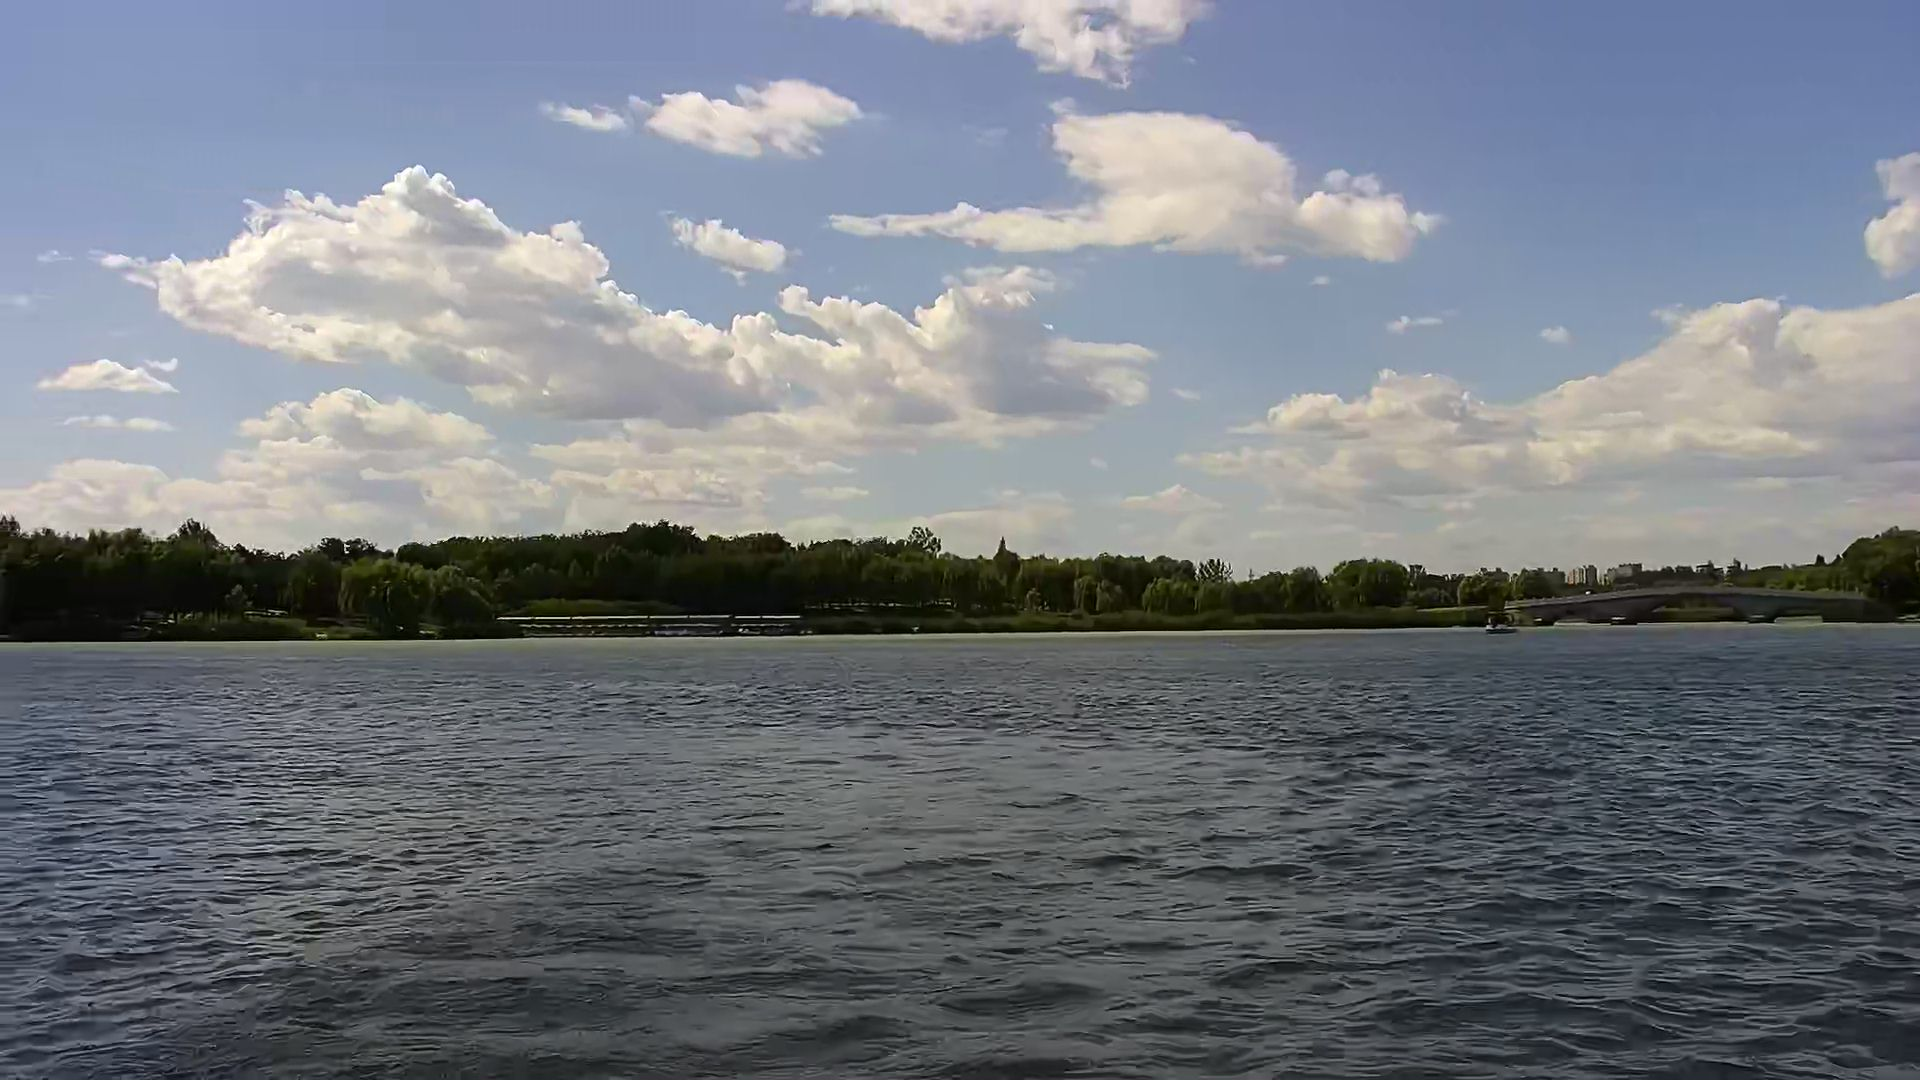boat: (1491, 609, 1523, 640)
bridge: (1499, 585, 1876, 626)
harbor: (506, 607, 793, 637)
